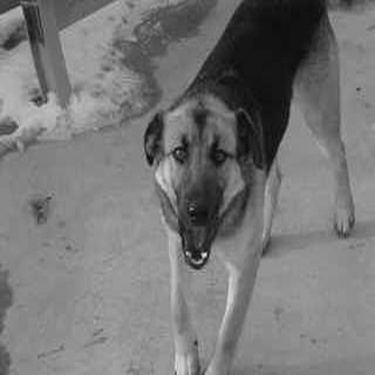dog: (133, 4, 363, 371)
